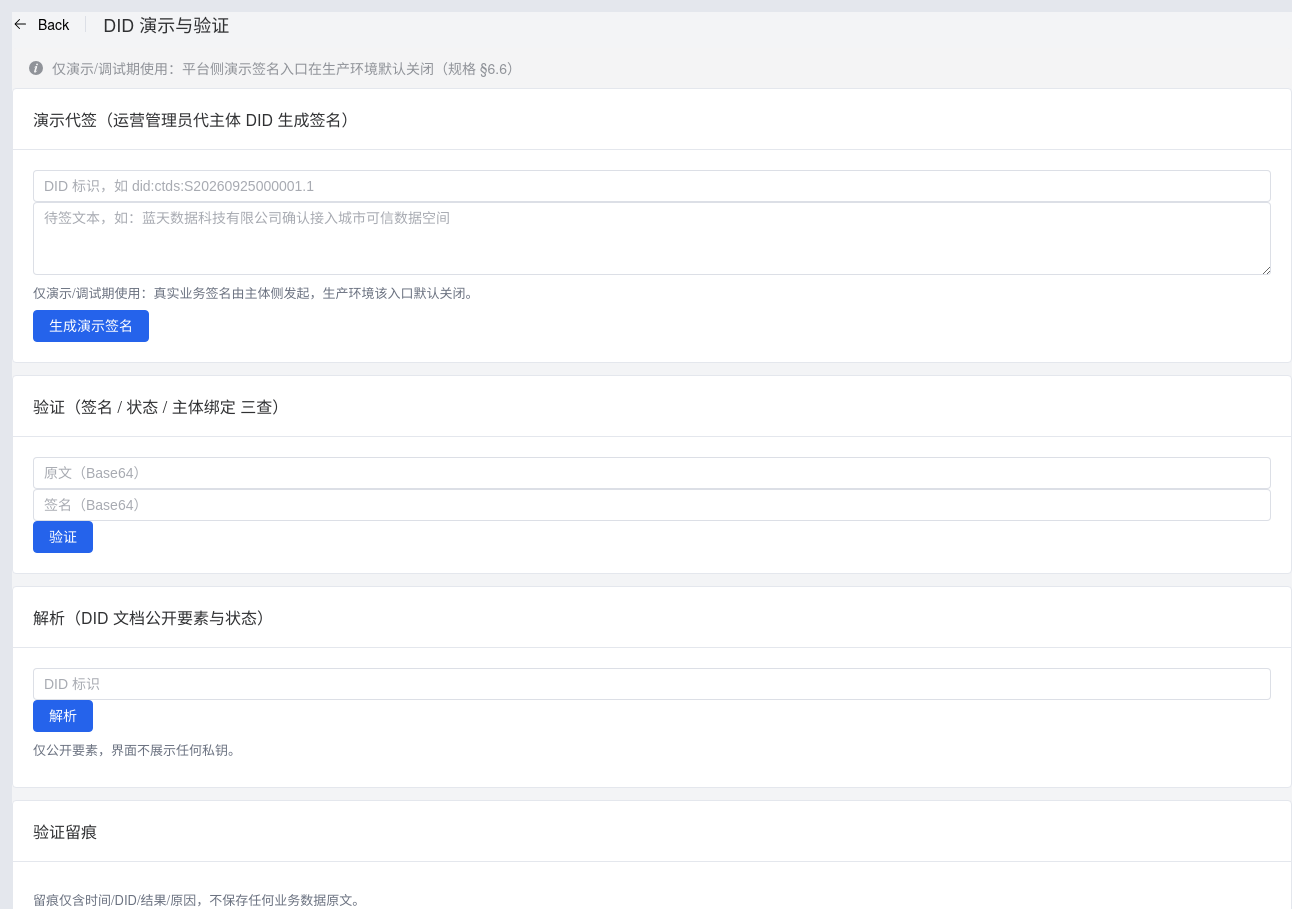
Test: DID 演示与验证页（WBS-3.1.11 T14/T15） › 解析成功：展示状态与公开要素（公钥/控制者/创建时间），并提示不展示私钥
Step 1. Type "did:ctds:S20260925000001.1" into the field with placeholder "DID 标识" → (652, 684), box [44,669,1260,699]
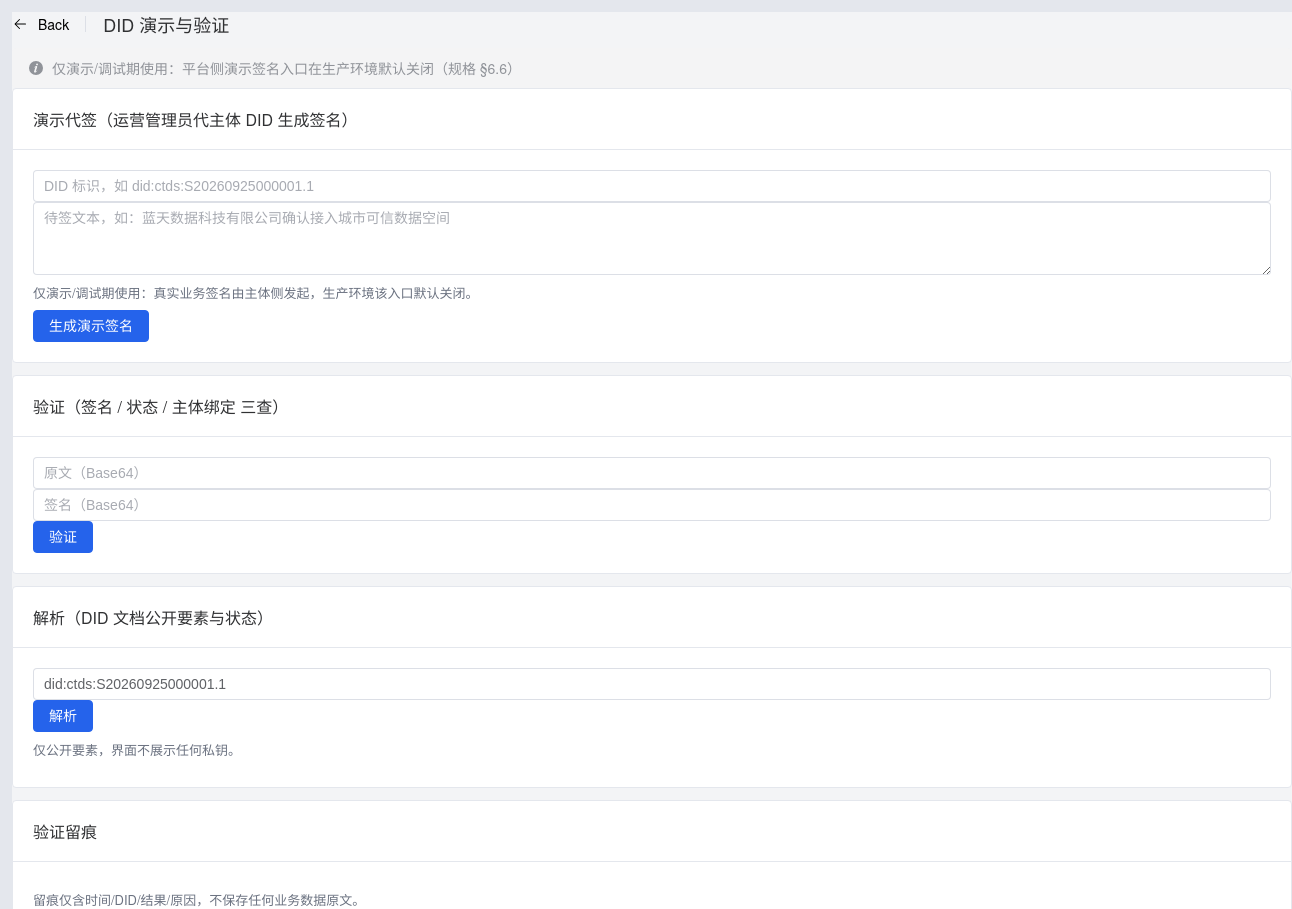
Step 2. Click the button with class "resolve-btn" → (63, 716), box [33,700,93,732]
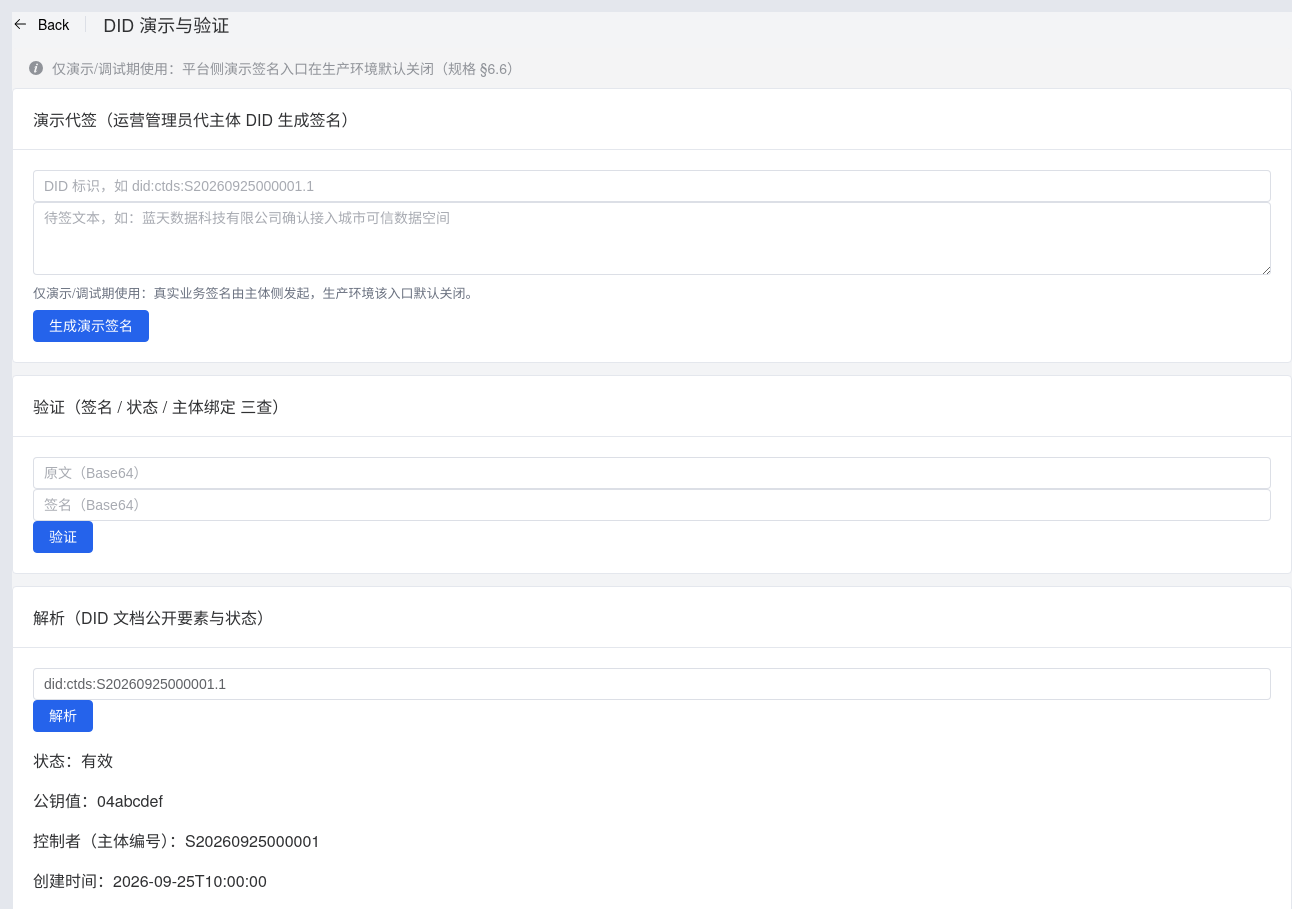
Expected: the element with class "resolve-result" shows "有效", [33,749,113,772]
Expected: the element with class "resolve-result" shows "04abcdef", [33,789,163,812]
Expected: the element with class "resolve-result" shows "S20260925000001", [33,829,320,852]
